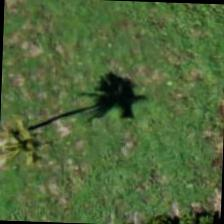Kelapa_Sawit: (0, 94, 70, 187)
